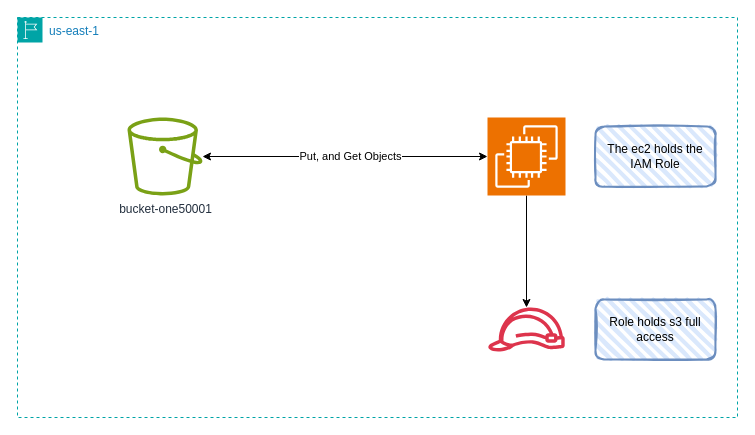
This 755x435 diagram has some shape labels left out. Here are the shapes that lost their labels. From the top down, the box of each, then its label:
(486, 116, 566, 196): hub-ec2-01
(487, 307, 565, 351): s3-role
